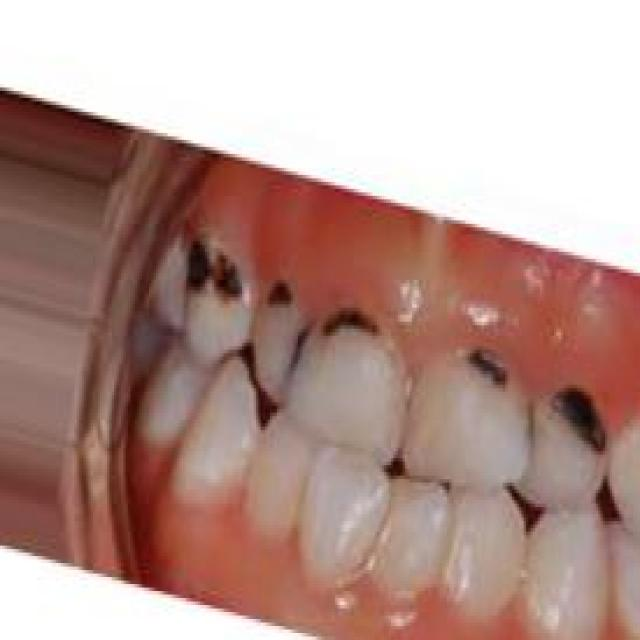caries: (187, 226, 250, 359), (549, 374, 619, 491), (311, 296, 400, 381), (254, 273, 304, 423), (446, 336, 522, 415)
